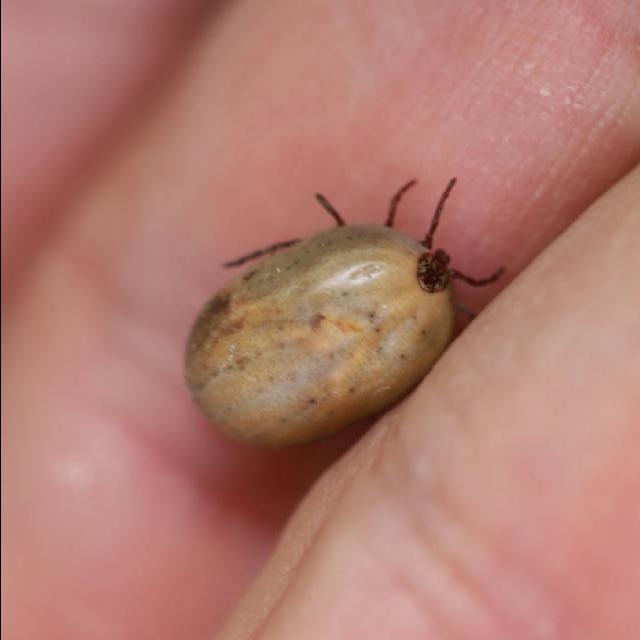Dermacentor Reticulatus-F-Fed: (183, 178, 504, 448)
